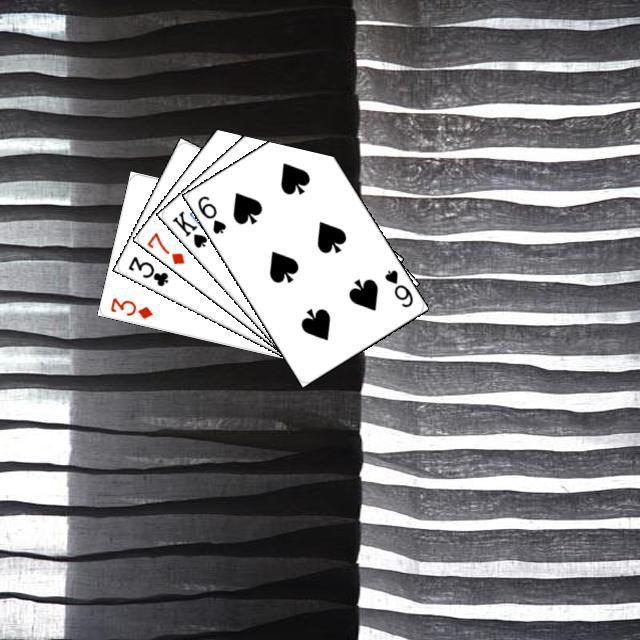3c: (123, 251, 170, 288)
3d: (105, 292, 154, 321)
6s: (192, 191, 228, 236), (379, 265, 415, 309)
7d: (142, 227, 187, 266)
Ks: (167, 206, 209, 250)
